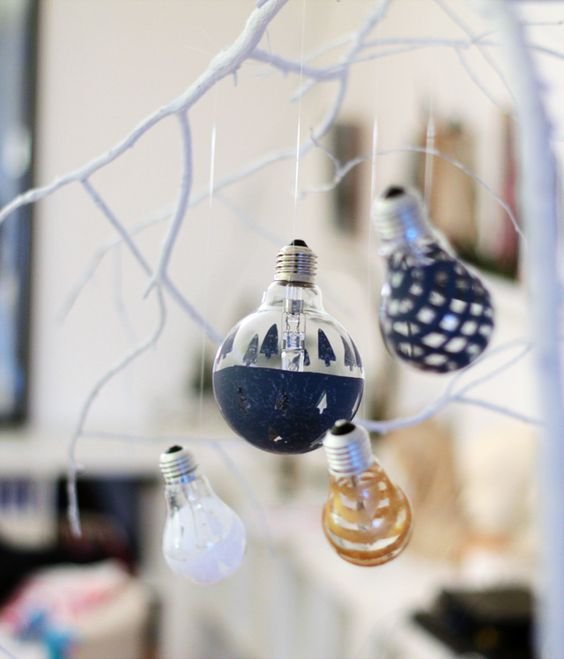Light_bulb: (216, 239, 364, 459), (362, 188, 499, 376), (311, 406, 428, 572), (139, 439, 255, 596)
